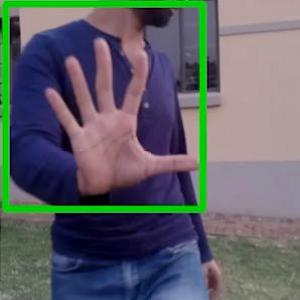follow_hand: (38, 31, 202, 200)
